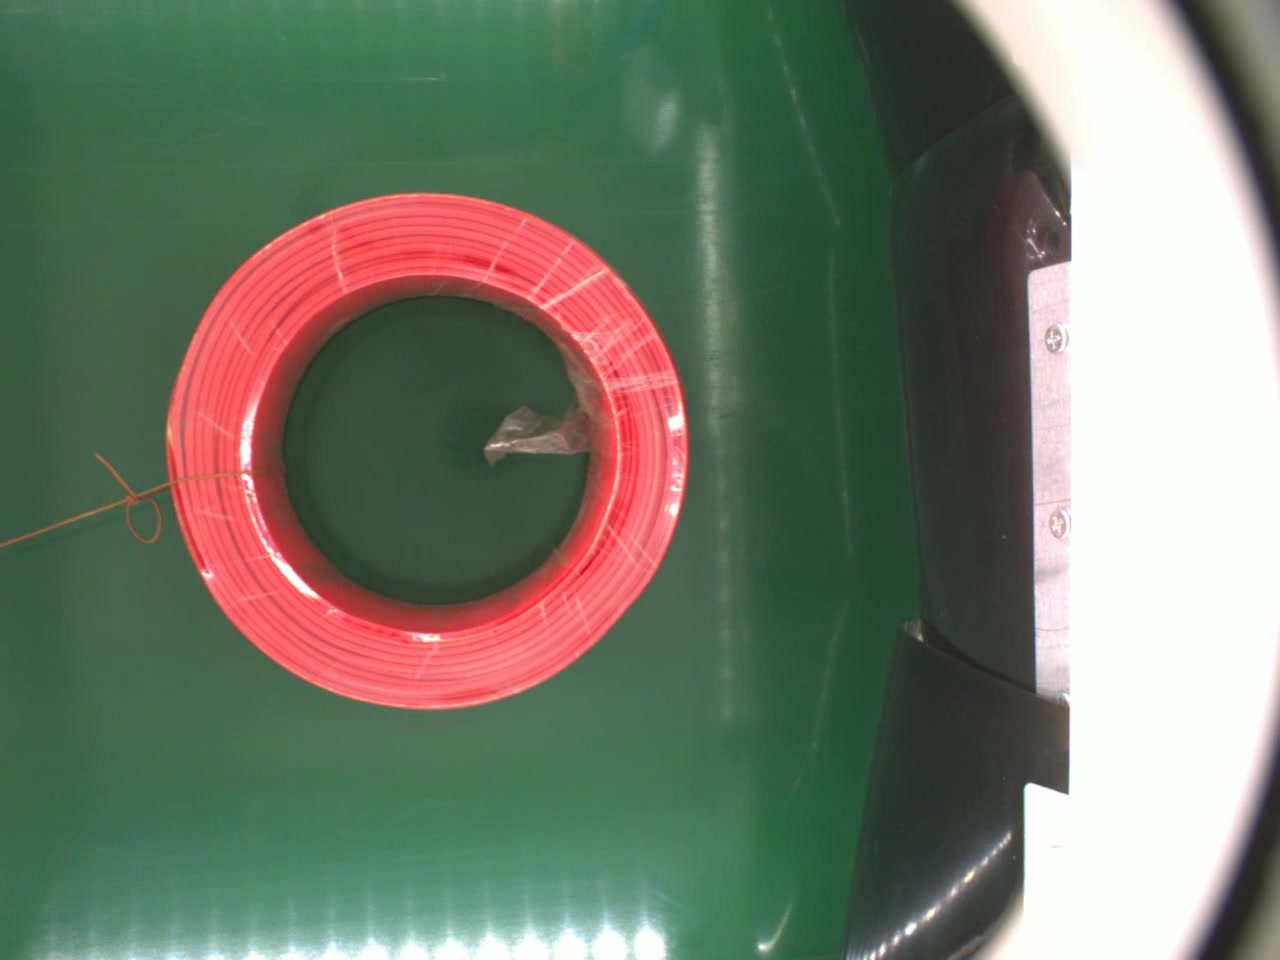red: (160, 190, 685, 714)
